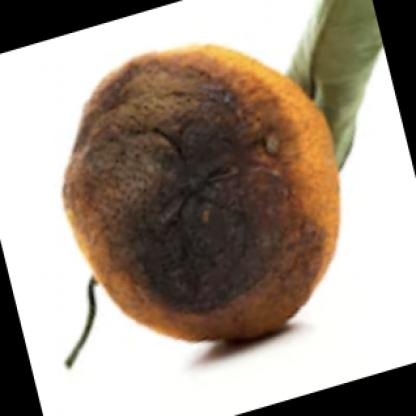rotten_orange: (65, 27, 341, 352)
